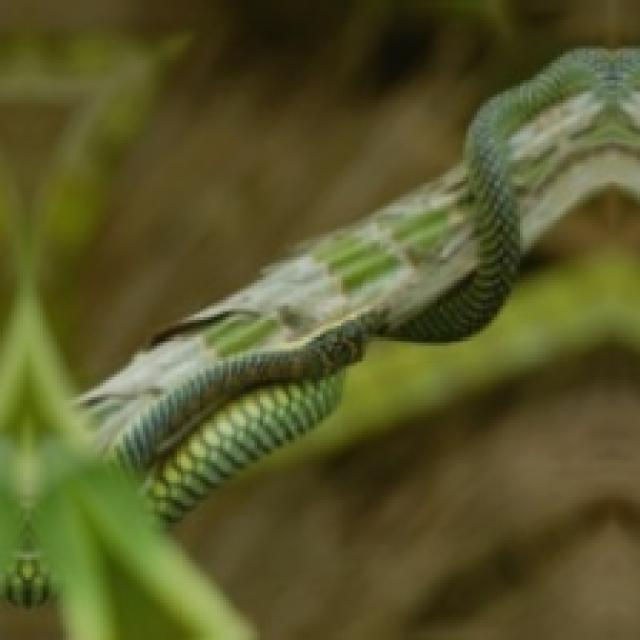paradise tree snake: (385, 50, 640, 342), (115, 316, 376, 519), (5, 551, 50, 607)
